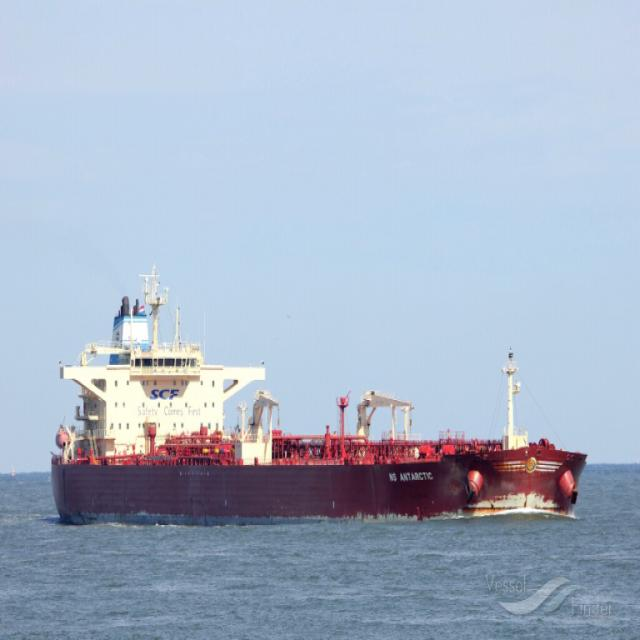Oil Tanker: (52, 269, 587, 524)
